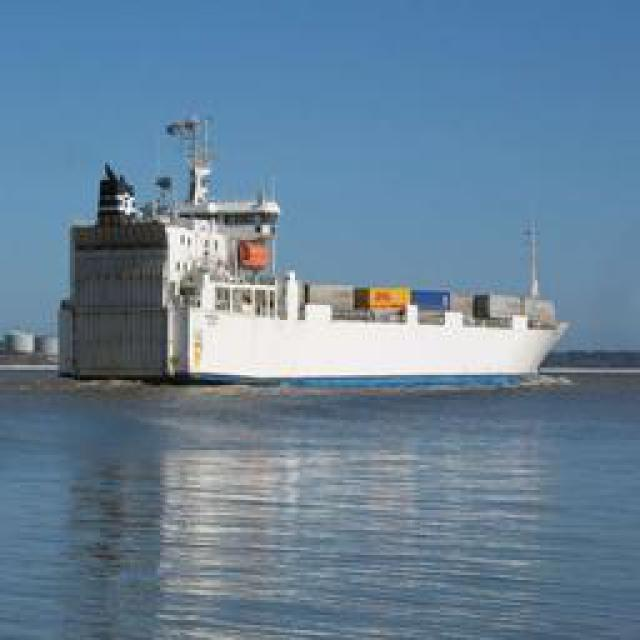Ship: (53, 110, 561, 388)
